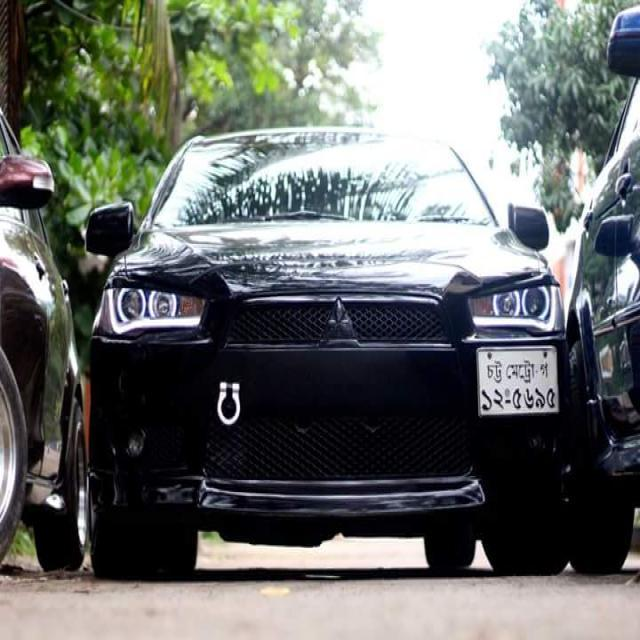numberplate: (474, 344, 560, 417)
